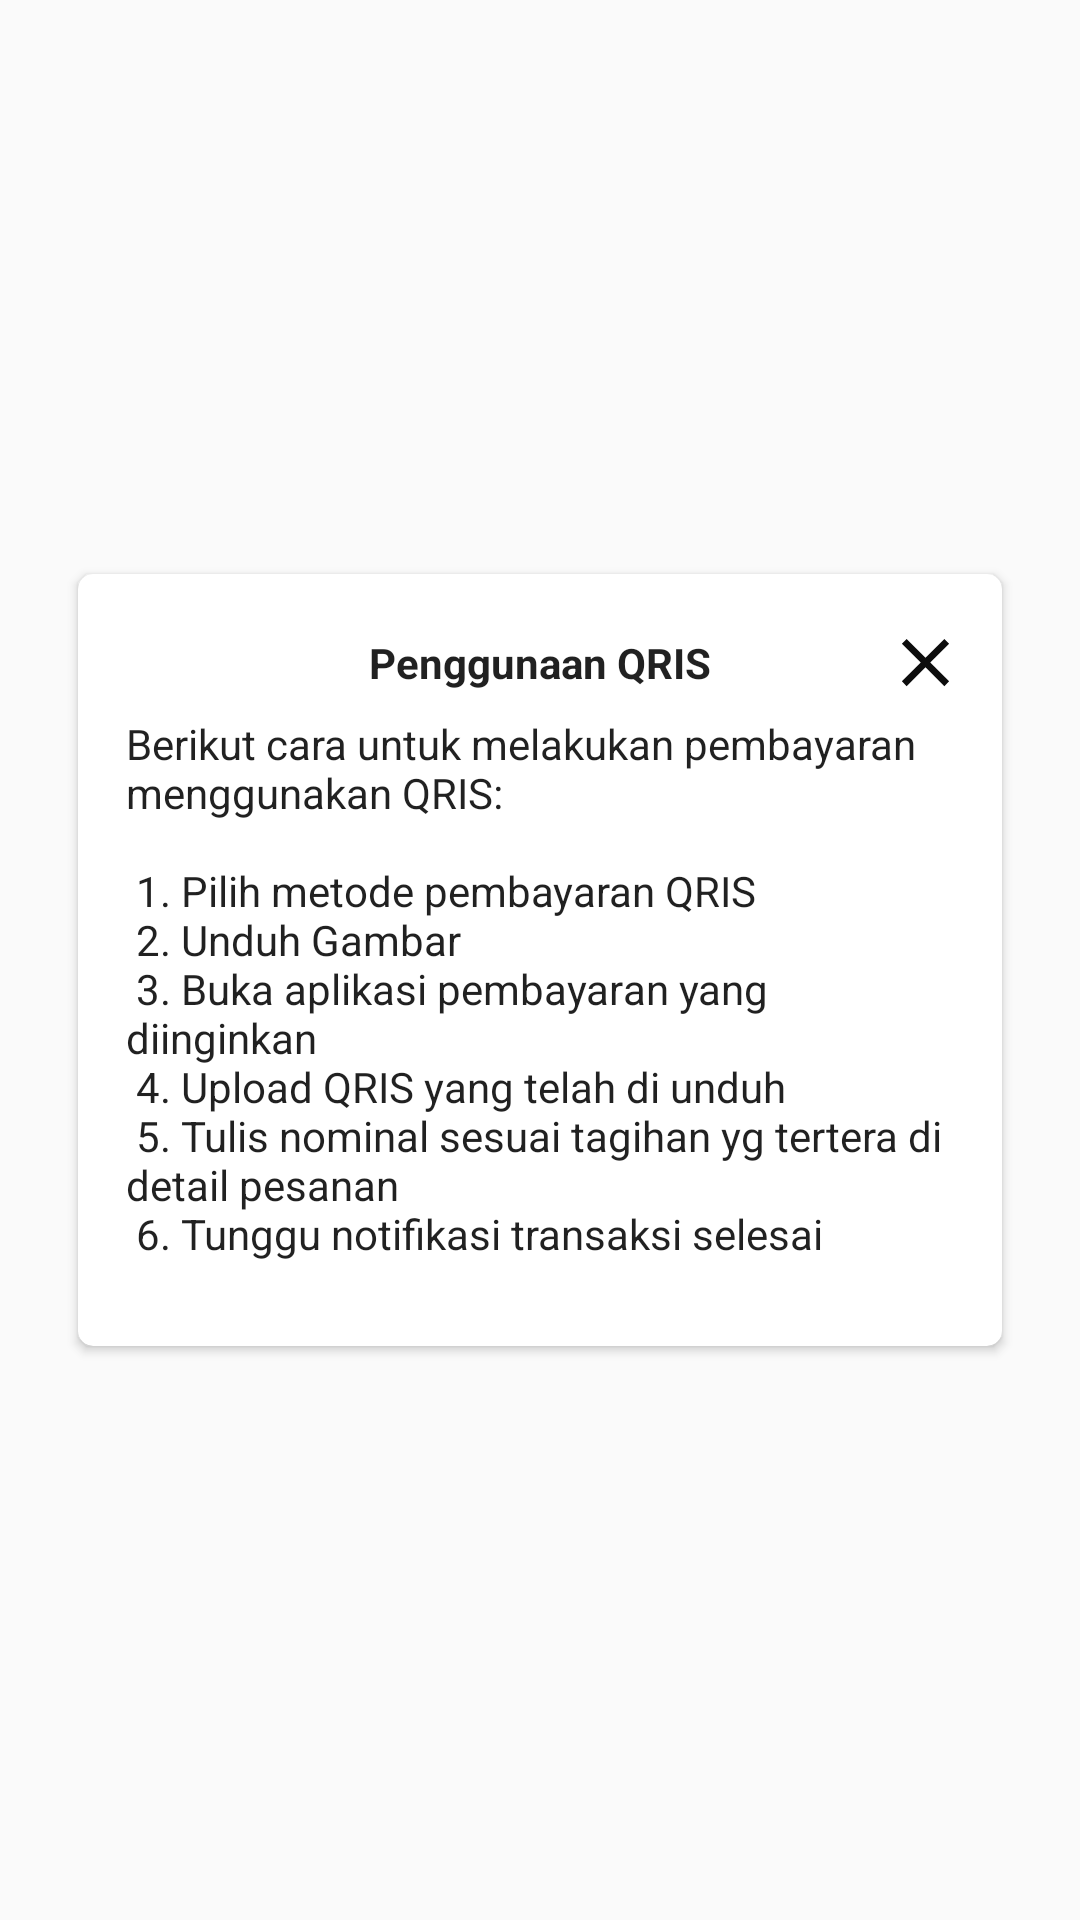

Named icons in this screenshot (1080*1920) and their bounding boxes, {"left": x1, "top": y1, "right": x2, "bottom": y2}:
close: {"left": 902, "top": 639, "right": 949, "bottom": 686}
